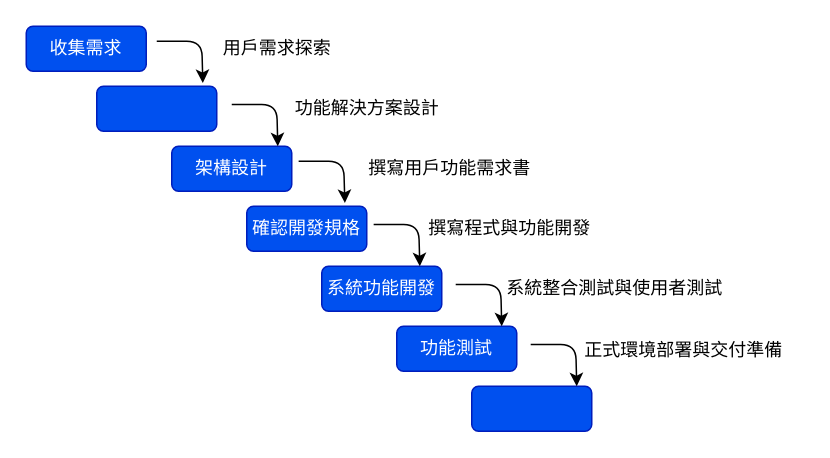
Some shapes in this 830 by 458 pixel diagram are drawn without their labels. The shapes that lost their labels are listed below. From the top down, each one's centre as x and y in pixels, then its label:
At pixel 156 108: "需求分析".
At pixel 531 408: "上線與交付".
